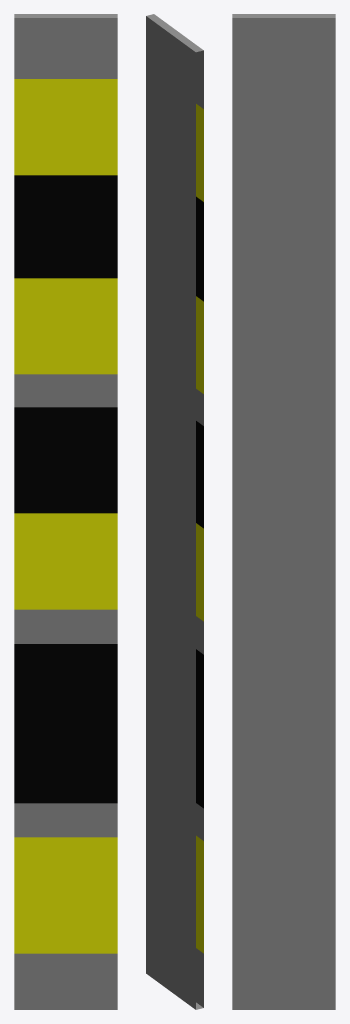
Rendered from rightWall.obj.
3 views of the same model, side by side, from view 1: azimuth 90°, elevation 25°; view 2: azimuth 210°, elevation 25°; view 3: azimuth 270°, elevation 25° (orthographic). The views are drawn at different scales.
Visible parts, largest first — view 1: Rigth_Wall; view 2: Rigth_Wall; view 3: Rigth_Wall.
Boxes of the visible parts, <box> form: Rigth_Wall: <box>14,14,117,1009</box>; Rigth_Wall: <box>146,14,203,1009</box>; Rigth_Wall: <box>232,14,335,1009</box>.
Bounding box in the file's own units: 0.1674 × 19.2 × 1.81.
